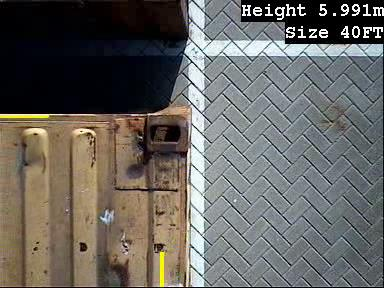groundmarker_2: (96, 92, 162, 129), (97, 250, 163, 287)
